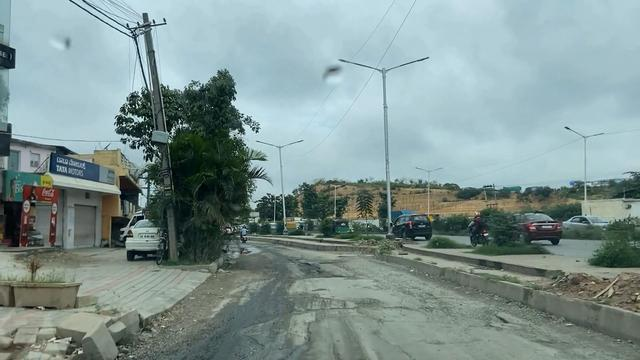RoadDamages: (292, 286, 450, 315), (469, 298, 552, 344), (264, 306, 330, 351), (292, 250, 357, 286)
